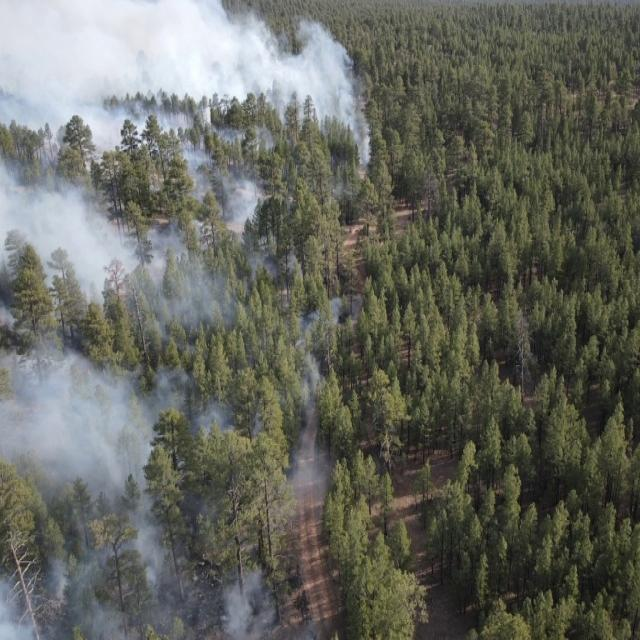smoke: (0, 362, 333, 640), (0, 168, 320, 364), (0, 0, 371, 169), (325, 289, 348, 327)
